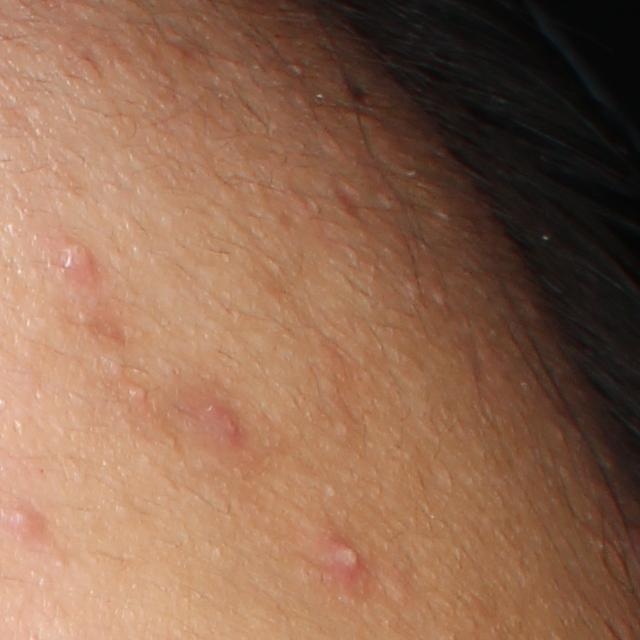comedo: (126, 385, 148, 401)
papule: (51, 233, 99, 282), (4, 502, 50, 540)
